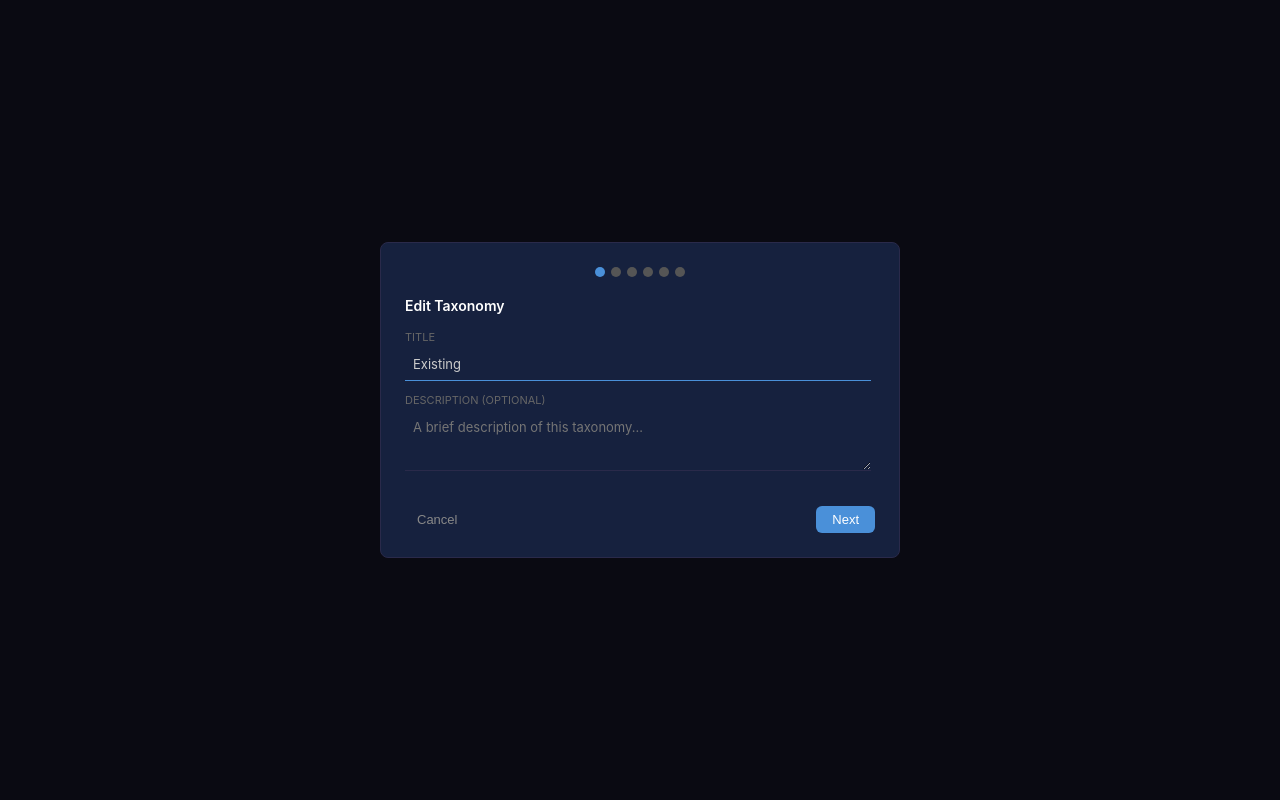
Test case: TaxonomyWizard › edit mode shows existing node types
This screenshot has width=1280, height=800.
Note: Navigate to node types step
Click the button "Next": x=846, y=520 [816,506,875,533]
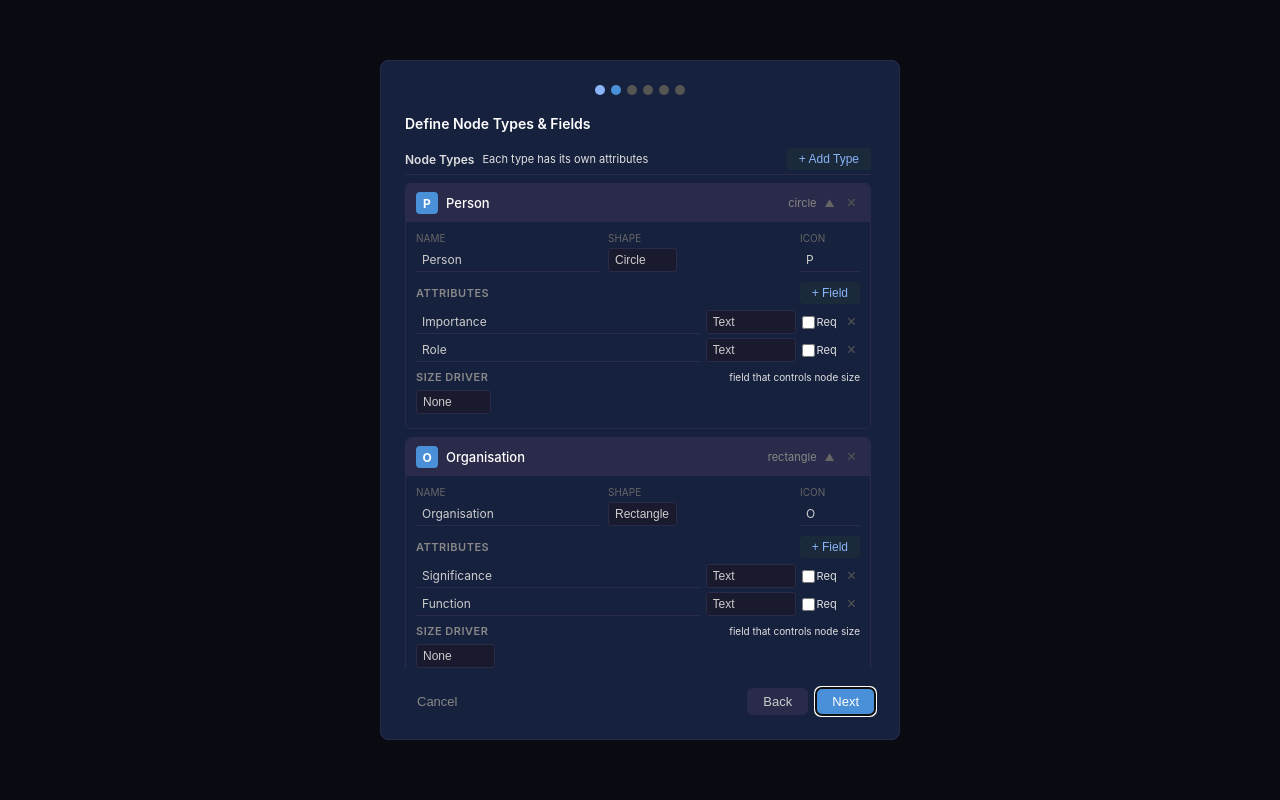
Expected: the text "Person" is shown, [446,195,490,211]
Expected: the text "Organisation" is shown, [446,449,525,465]
